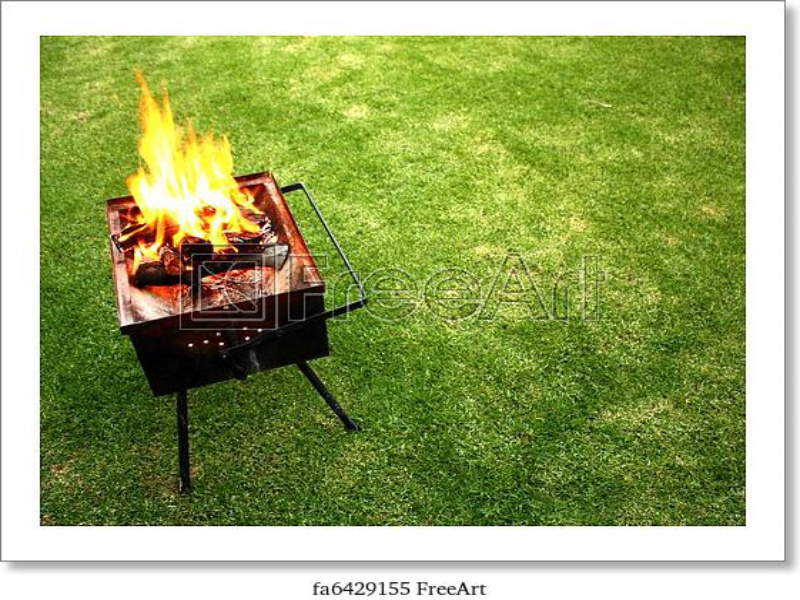fire: (124, 66, 266, 271)
